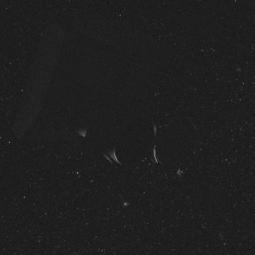cheops: (73, 98, 193, 178)
